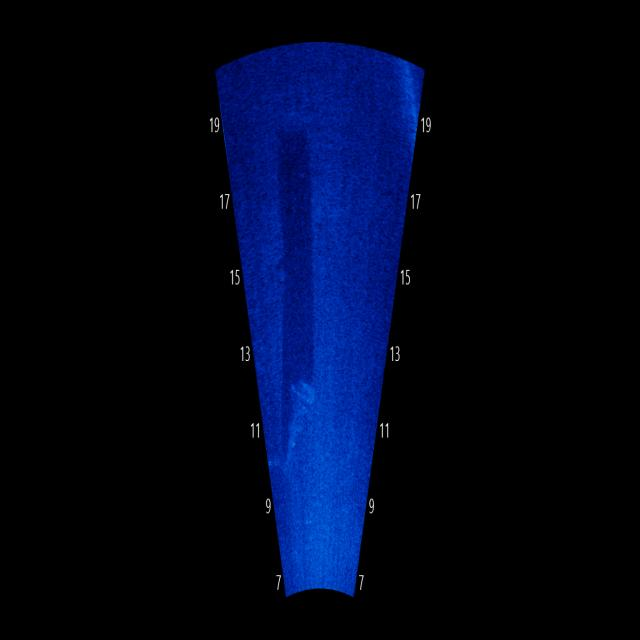circle: (270, 250, 292, 290)
triangle: (280, 375, 316, 483)
